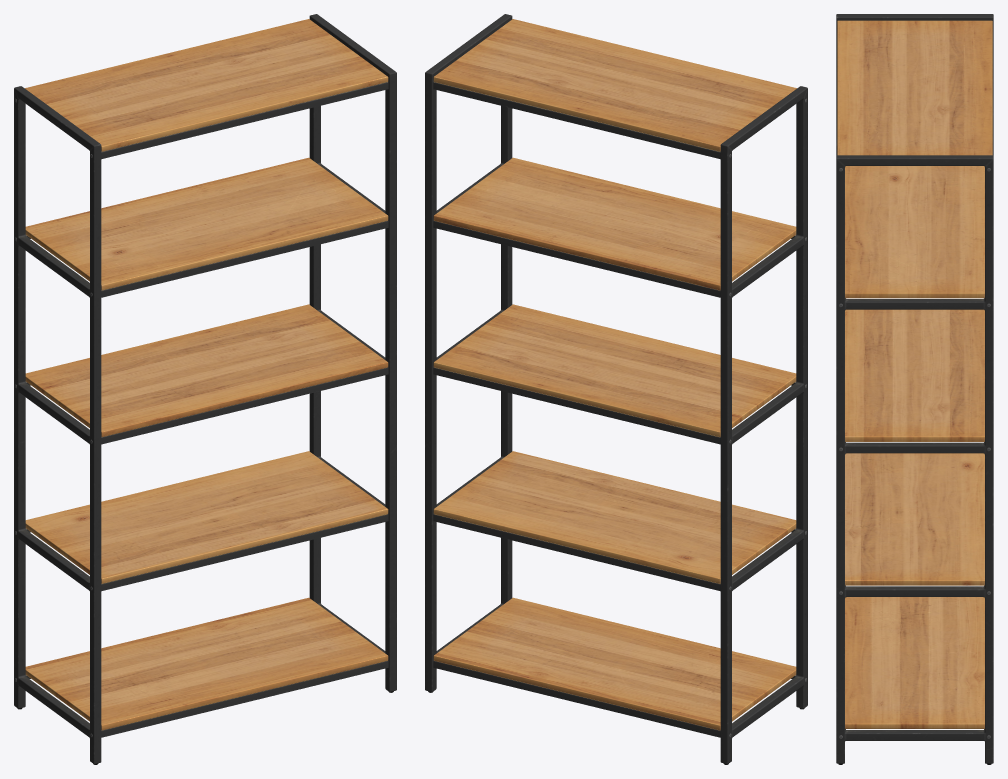
The model's file is Steel Frame Shelves.gltf.
3 renders of one model, left to right at view 1: azimuth 30°, elevation 25°; view 2: azimuth 150°, elevation 25°; view 3: azimuth 270°, elevation 25°, orthographic. The views are drawn at different scales.
Parts seen in each view (by area): view 1: steel_frame_shelves_01; view 2: steel_frame_shelves_01; view 3: steel_frame_shelves_01.
Part boxes in pixels (x1,y1,x2,y2): steel_frame_shelves_01: [14, 14, 396, 764]; steel_frame_shelves_01: [425, 14, 807, 764]; steel_frame_shelves_01: [836, 14, 993, 764].
Bounding box in the file's own units: 1.1 × 2.15 × 0.5037.
1 material, 1 textured.
